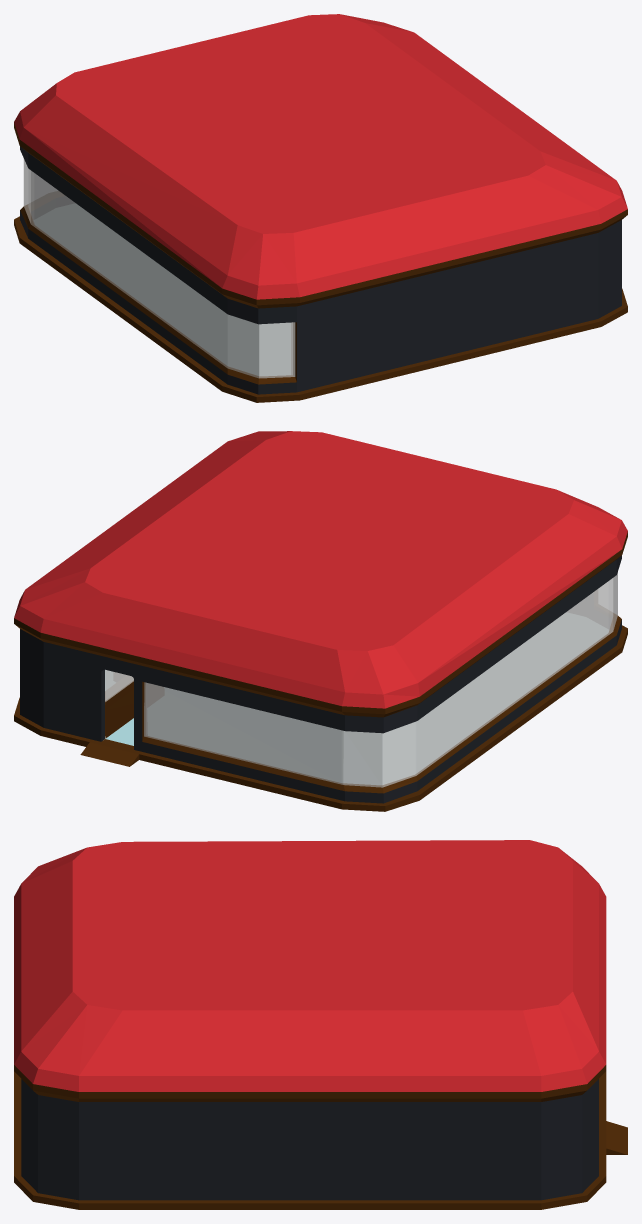
Rendered from shop.glb.
3 views of the same model, one above another, from view 1: azimuth 30°, elevation 25°; view 2: azimuth 150°, elevation 25°; view 3: azimuth 270°, elevation 25° (orthographic). The views are drawn at different scales.
Visible parts, largest first — view 1: shp_0; view 2: shp_0; view 3: shp_0.
Boxes of the visible parts, x1,y1,x2,y2 form: shp_0: (14,14,627,402); shp_0: (14,431,627,811); shp_0: (14,840,627,1209).
Size of the model in its own units: 4672 by 1608 by 5440.
